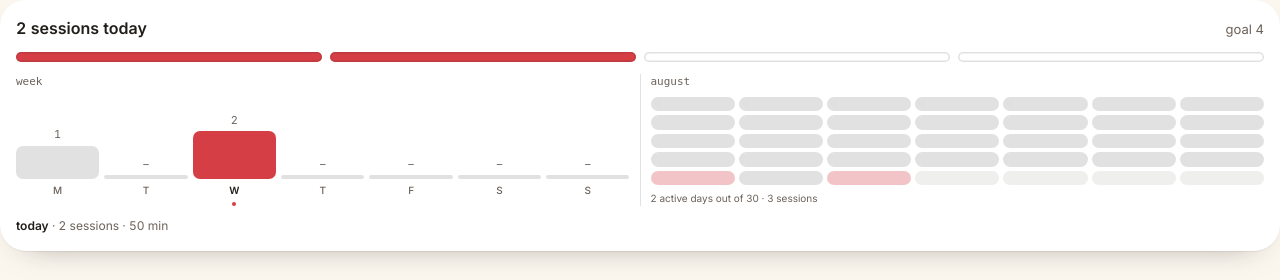
picking a day › reads today until another day is picked
This screenshot has width=1280, height=280.
Expected: the message reads "today · 2 sessions · 50 min", [16,218,168,233]
What coordinates should you click on to do the following:
click the button "1 m"
I would click on:
 (58, 151)
Its box is [16,96,99,206].
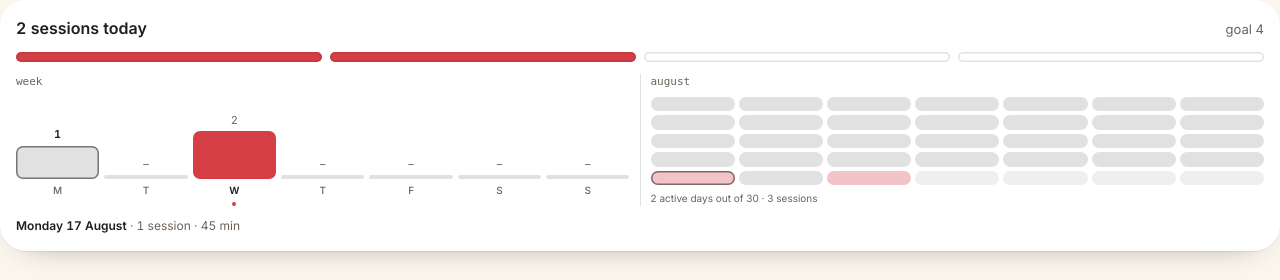
Result: the message reads "Monday 17 August · 1 session · 45 min" at [16,218,240,233]
